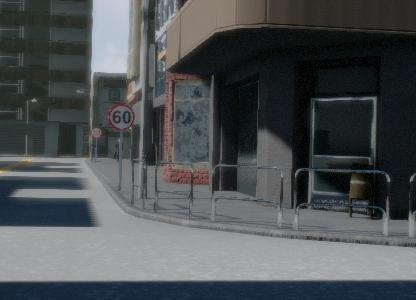Speed_60: (107, 102, 135, 134)
